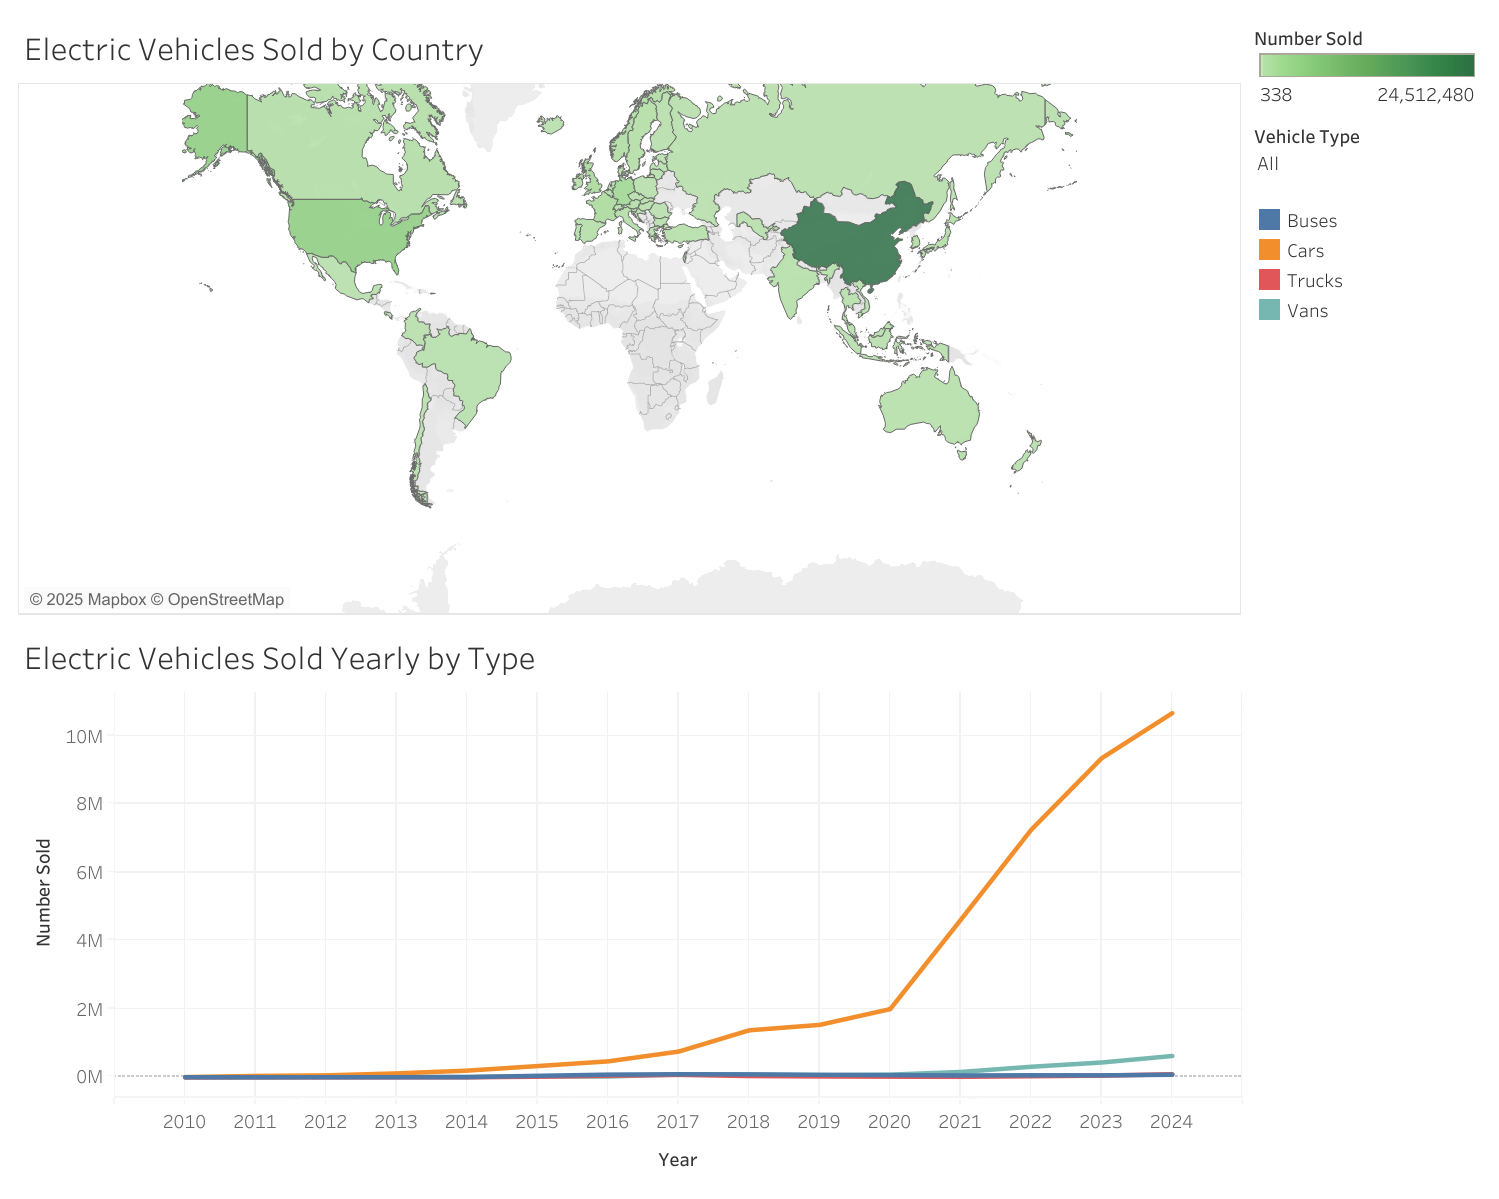

This screenshot's page, from the dashboard's own definition file:
{"tool":"tableau","page":{"name":"Dashboard 1","canvas":[1000,800],"ordinal":0},"visuals":[{"type":"worksheet","title":"Total Vehicles Sold by Country","mark":"Automatic","box":[8,8,824,406]},{"type":"legend","title":"Total Vehicles Sold by Country","param":"[federated.1m17zxj0nntl2h168put91s07tj7].[sum:Number Sold:qk]","box":[832,8,160,81]},{"type":"parameter","param":"[Parameters].[Parameter 1]","box":[832,89,160,60]},{"type":"legend","title":"Total Vehicles Sold Each Year by Type","param":"[federated.1m17zxj0nntl2h168put91s07tj7].[none:mode:nk]","box":[832,149,160,108]},{"type":"worksheet","title":"Total Vehicles Sold Each Year by Type","mark":"Line","rows":["Number Sold"],"cols":["Year"],"box":[8,414,824,378]}]}

Visuals, with their boxes in screenshot pixels (x1, y1, x2, y2), scaled from the page's 1000x800 canvas onto the 1499x1199 screenshot:
"Total Vehicles Sold by Country" worksheet: [12,12,1247,620]
"Total Vehicles Sold by Country" legend: [1247,12,1487,133]
parameter: [1247,133,1487,223]
"Total Vehicles Sold Each Year by Type" legend: [1247,223,1487,385]
"Total Vehicles Sold Each Year by Type" worksheet (Line marks): [12,620,1247,1187]
